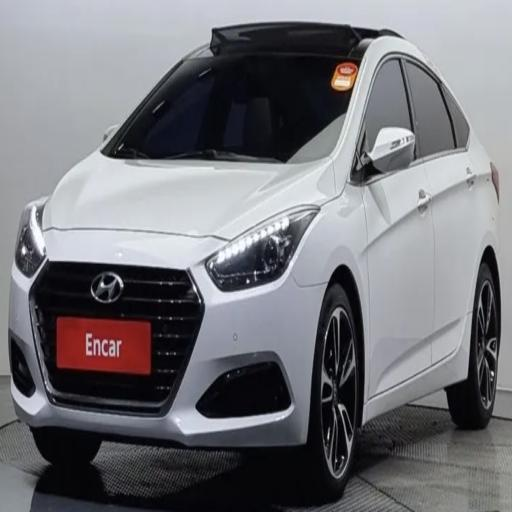normal: (7, 18, 507, 493)
